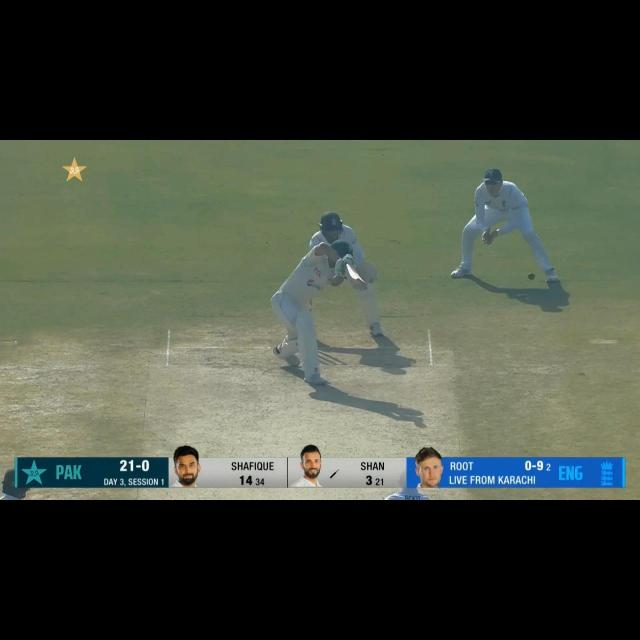bat: (347, 266, 368, 290)
toe: (356, 276, 366, 290)
